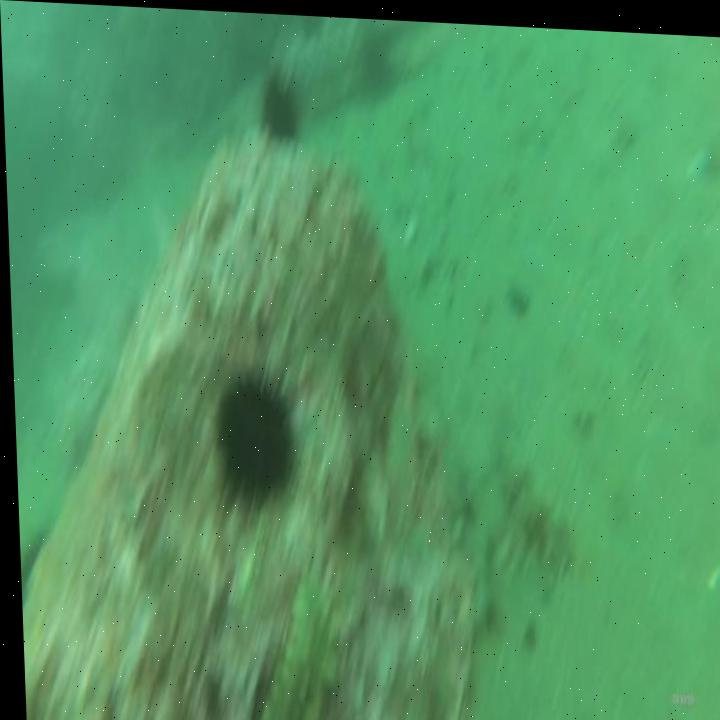echinus: (202, 342, 308, 526), (255, 53, 304, 145)
holothurian: (250, 566, 339, 720)
